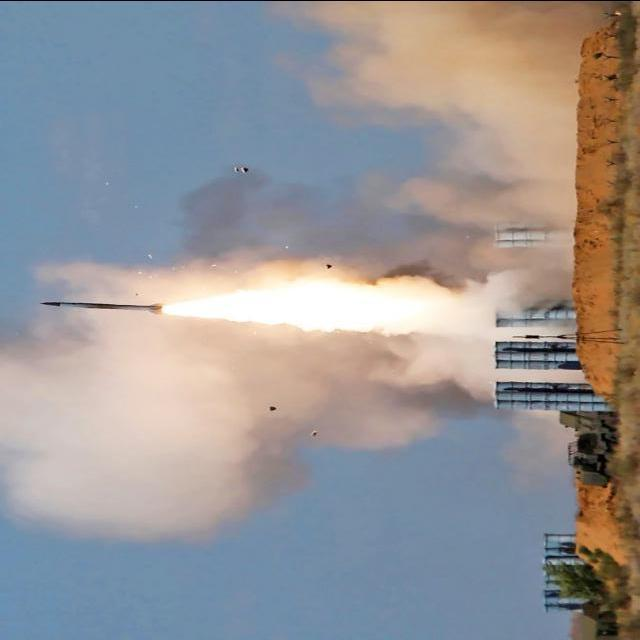Missile: (35, 298, 170, 314)
